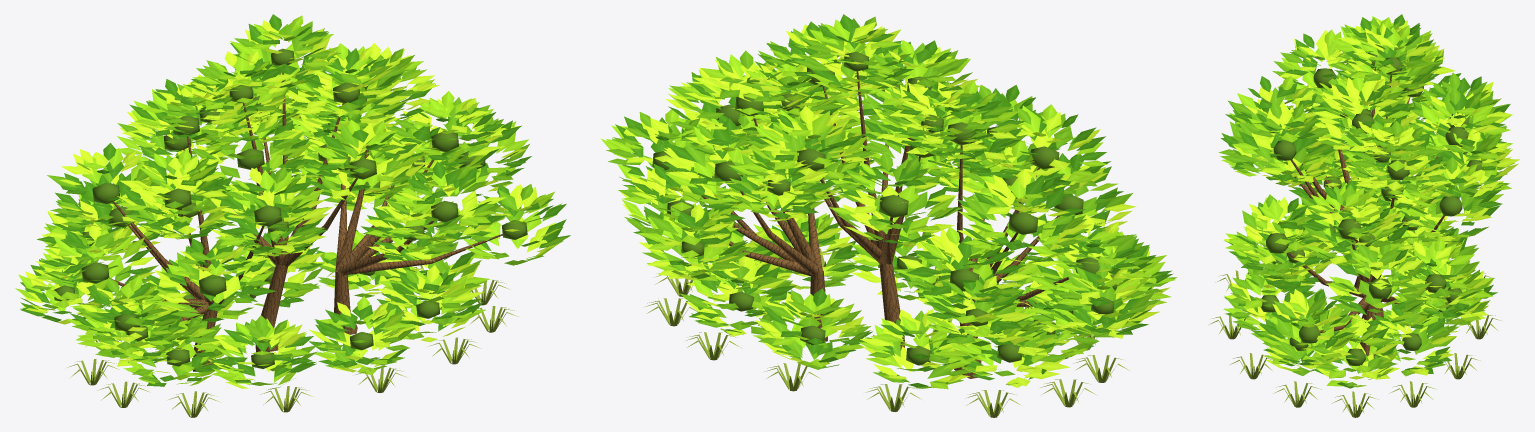
The model's file is V04_vegetation_front_v2.glb.
The picture shows the model from 3 angles, left to right: view 1: azimuth 30°, elevation 25°; view 2: azimuth 150°, elevation 25°; view 3: azimuth 270°, elevation 25°; orthographic projection. The views are drawn at different scales.
Visible parts, largest first — view 1: GAME_VEG_Sculpted_leaves, GAME_VEG_Shrub_shadow_green, GAME_V2_Bark, GAME_VEG_Yellow_green; view 2: GAME_VEG_Sculpted_leaves, GAME_VEG_Shrub_shadow_green, GAME_V2_Bark, GAME_VEG_Yellow_green; view 3: GAME_VEG_Sculpted_leaves, GAME_VEG_Shrub_shadow_green, GAME_VEG_Yellow_green, GAME_V2_Bark.
Part boxes in pixels (<box>): GAME_VEG_Sculpted_leaves: <box>15,14,570,389</box>; GAME_VEG_Shrub_shadow_green: <box>54,48,527,368</box>; GAME_V2_Bark: <box>107,72,502,371</box>; GAME_VEG_Yellow_green: <box>67,264,518,417</box>; GAME_VEG_Sculpted_leaves: <box>600,14,1177,389</box>; GAME_VEG_Shrub_shadow_green: <box>652,51,1116,365</box>; GAME_V2_Bark: <box>701,71,1068,378</box>; GAME_VEG_Yellow_green: <box>645,248,1129,417</box>; GAME_VEG_Sculpted_leaves: <box>1218,14,1519,388</box>; GAME_VEG_Shrub_shadow_green: <box>1260,50,1484,366</box>; GAME_VEG_Yellow_green: <box>1209,243,1501,417</box>; GAME_V2_Bark: <box>1287,68,1449,358</box>.
Size of the model in its own units: 3.69 by 2.15 by 2.05.
Materials: 4 (2 with a texture image).
